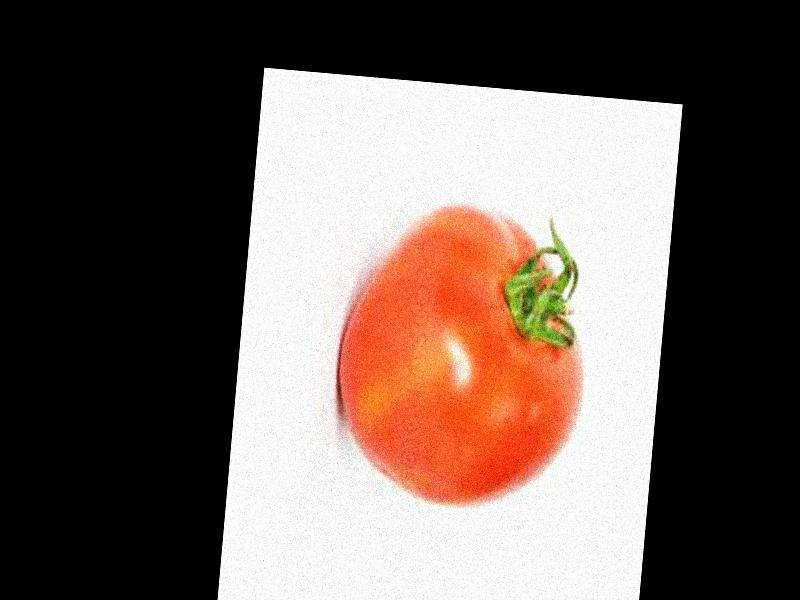Tomato: (328, 196, 601, 515)
